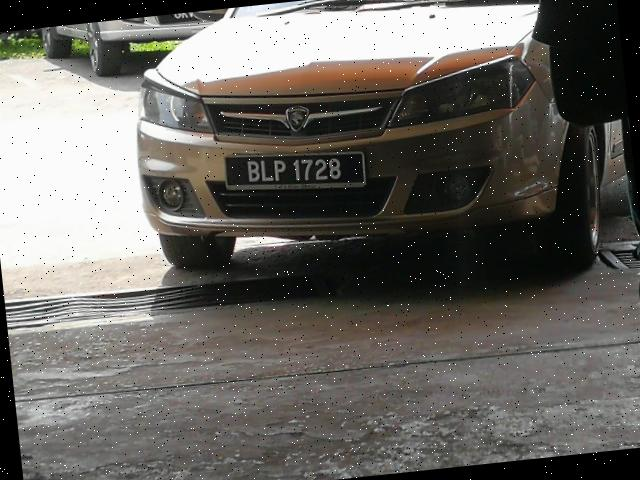License_Plate: (224, 142, 369, 202)
car: (132, 1, 640, 306)
